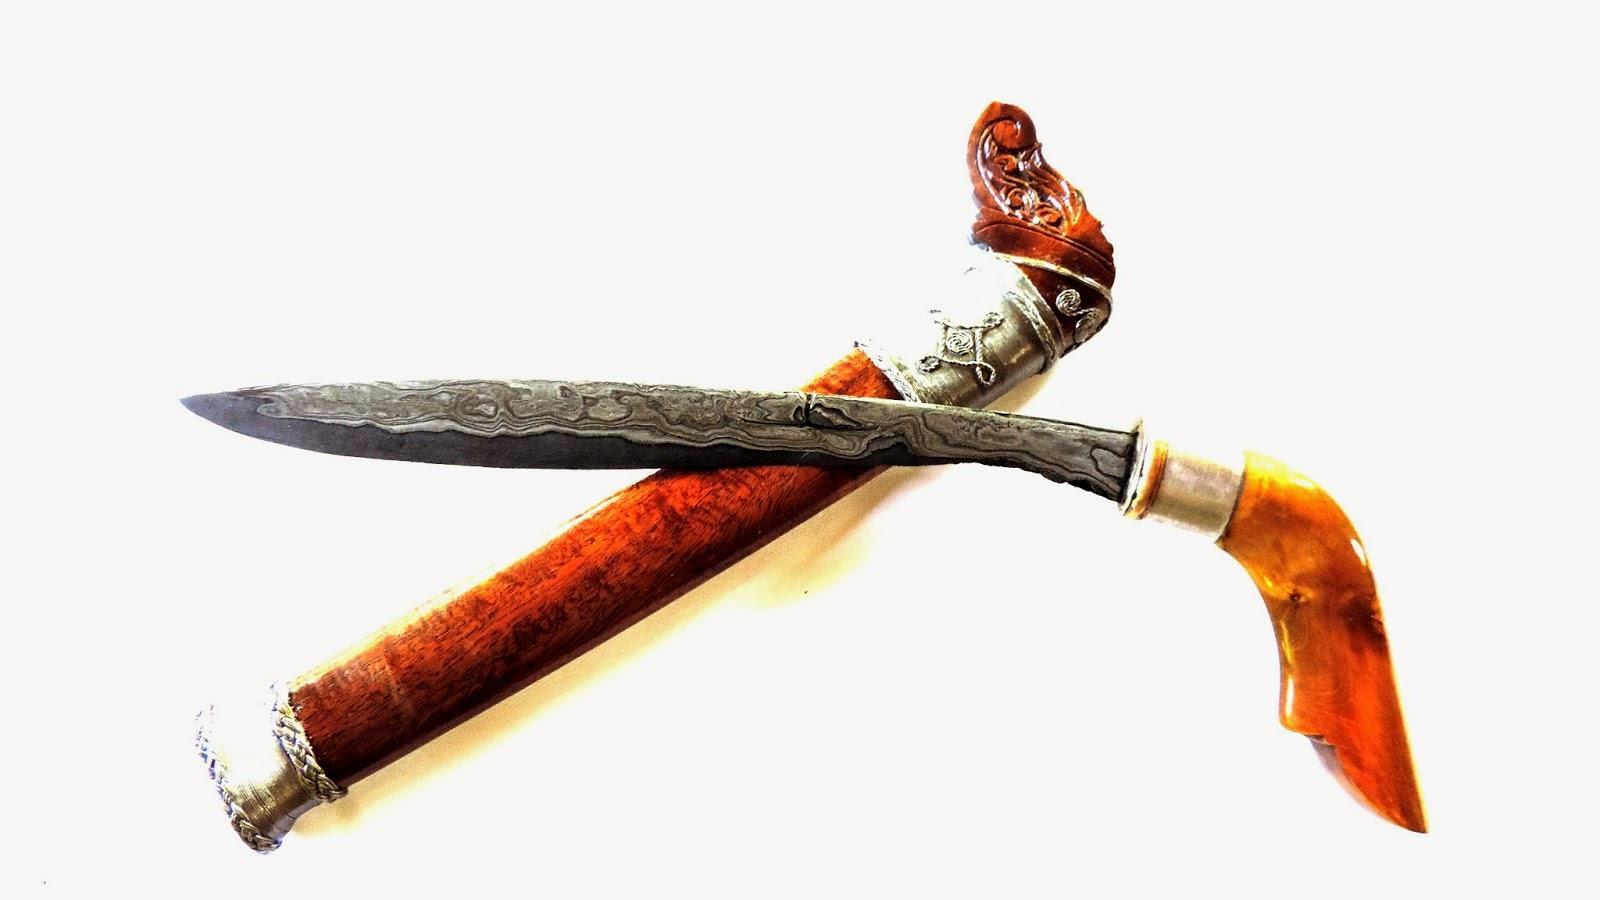facao: (181, 379, 1241, 538)
